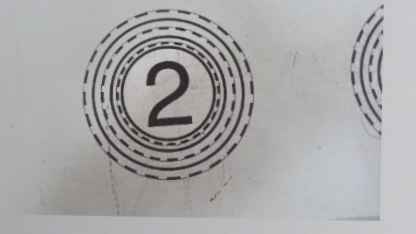2r: (76, 10, 254, 181)
